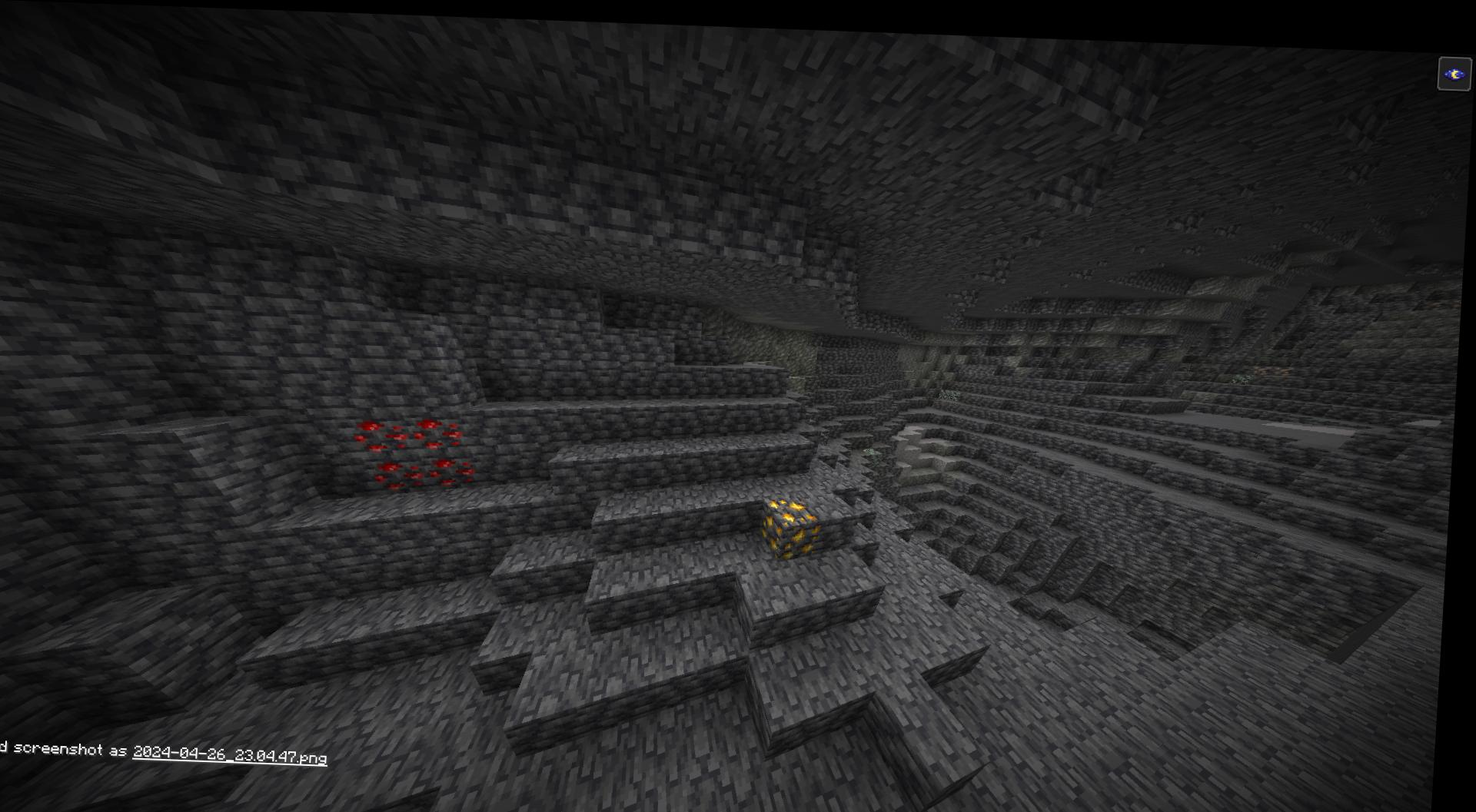gold ore: (788, 517, 827, 554), (776, 487, 821, 518), (765, 505, 790, 548)
redstone ore: (355, 409, 423, 452), (415, 412, 470, 450), (384, 453, 430, 495), (435, 454, 484, 489)
